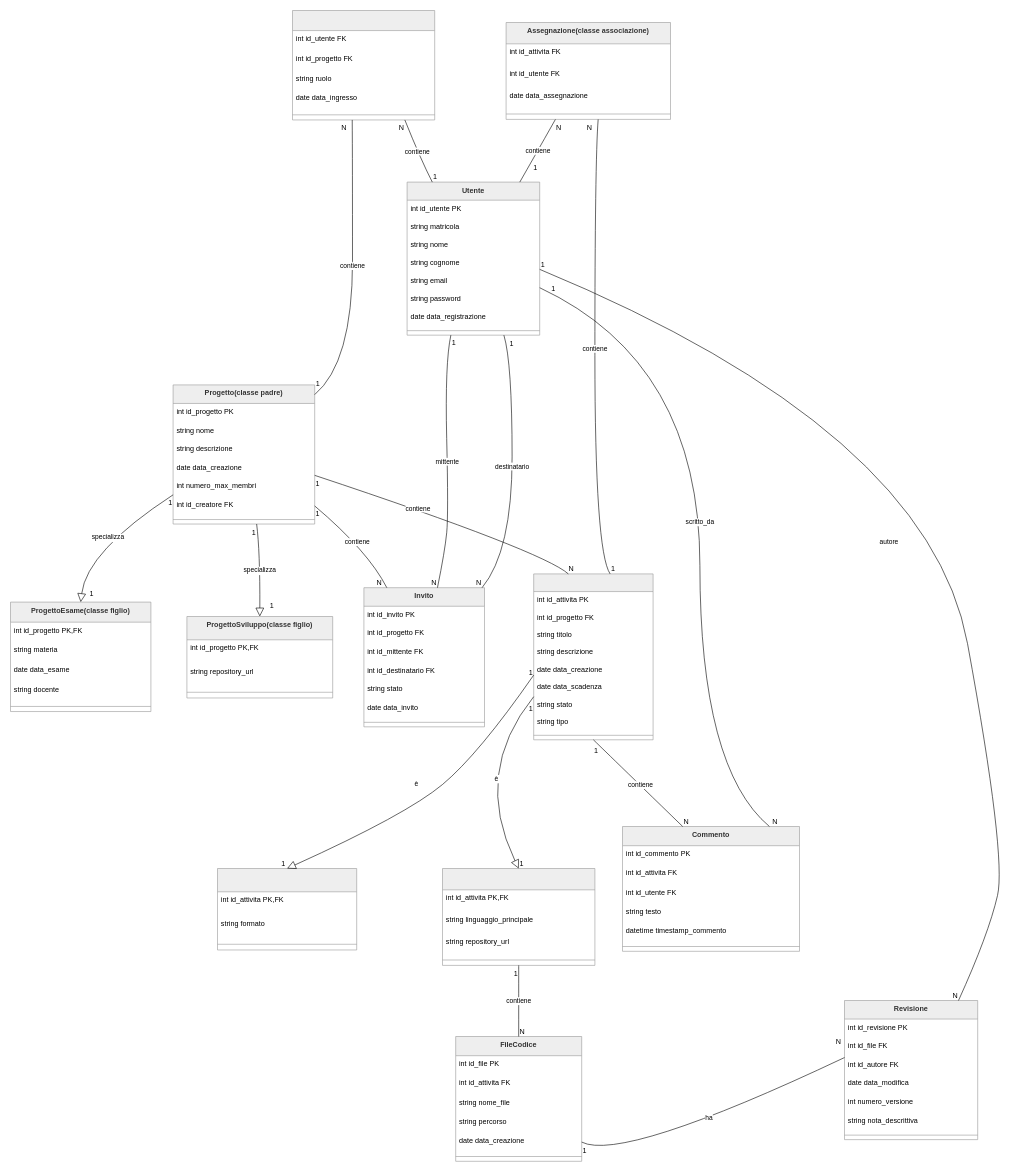
This 1010x1172 diagram has some shape labels left out. Each missing label, with the box of its shape:
Attivita(classe padre): (533, 573, 653, 740)
Documentazione(classe figlio): (217, 868, 357, 950)
MembroProgetto(classe associazione): (292, 10, 435, 120)
Sviluppo(classe figlio): (442, 868, 595, 965)
